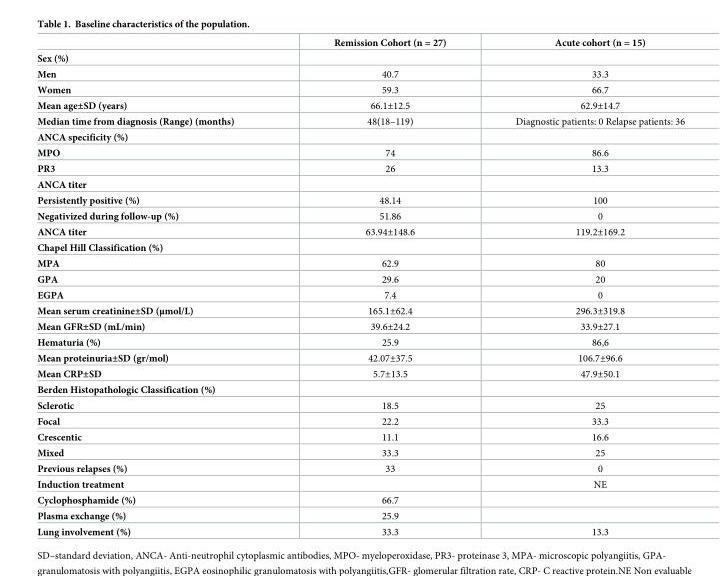table: (36, 37, 683, 536)
table column: (36, 37, 283, 536), (480, 37, 683, 536), (283, 37, 480, 536)
table column header: (36, 37, 683, 50)
table projected row header: (36, 176, 683, 192), (36, 50, 683, 65), (36, 129, 683, 144), (36, 240, 683, 255), (36, 382, 683, 397)
table row: (36, 222, 683, 240), (36, 96, 683, 113), (36, 301, 683, 318), (36, 365, 683, 382), (36, 65, 683, 81), (36, 113, 683, 129), (36, 144, 683, 160), (36, 160, 683, 176), (36, 176, 683, 192), (36, 192, 683, 208), (36, 255, 683, 271), (36, 318, 683, 334), (36, 349, 683, 365), (36, 397, 683, 413), (36, 413, 683, 429), (36, 444, 683, 460), (36, 460, 683, 476), (36, 476, 683, 492), (36, 507, 683, 523), (36, 50, 683, 65), (36, 81, 683, 96), (36, 129, 683, 144), (36, 240, 683, 255), (36, 271, 683, 286), (36, 286, 683, 301), (36, 334, 683, 349), (36, 382, 683, 397), (36, 429, 683, 444), (36, 492, 683, 507), (36, 208, 683, 222), (36, 37, 683, 50), (36, 523, 683, 536)
